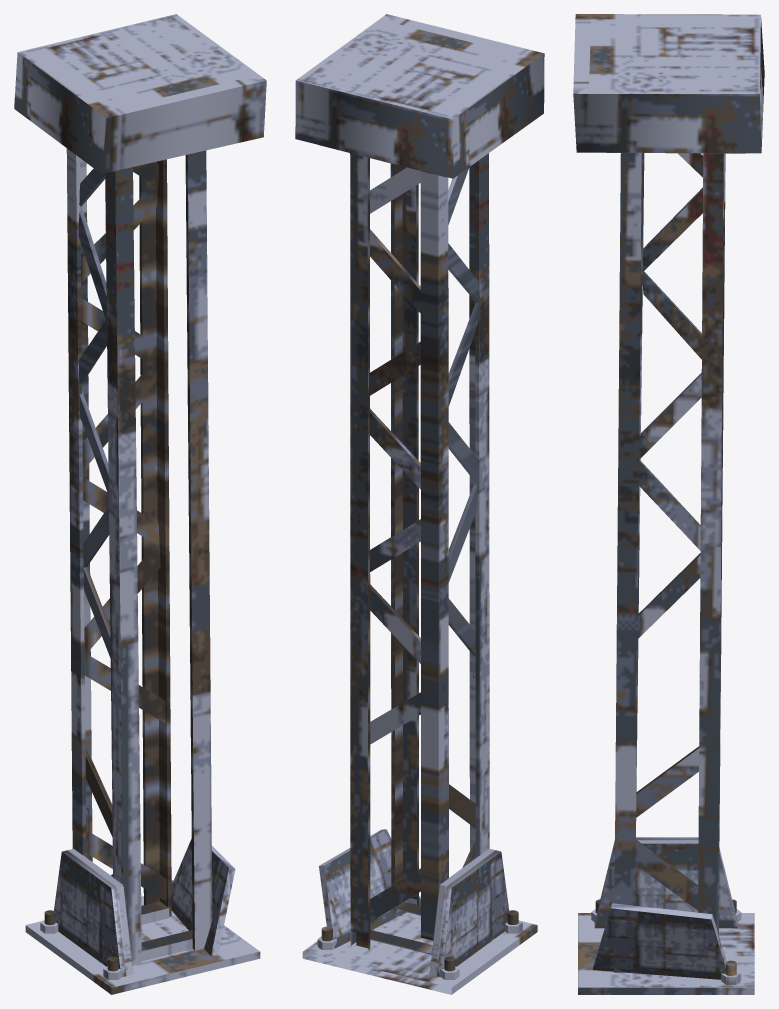
The model's file is SM_Debris_06.fbx.
3 renders of one model, left to right at view 1: azimuth 30°, elevation 25°; view 2: azimuth 150°, elevation 25°; view 3: azimuth 270°, elevation 25°, orthographic. The views are drawn at different scales.
Visible parts, largest first — view 1: industrial_column_01; view 2: industrial_column_01; view 3: industrial_column_01.
Part boxes in pixels (x1=…): industrial_column_01: x1=14, y1=14, x2=266, y2=994; industrial_column_01: x1=295, y1=14, x2=544, y2=994; industrial_column_01: x1=573, y1=14, x2=764, y2=994.
Bounding box in the file's own units: 64.23 × 334 × 63.93.
